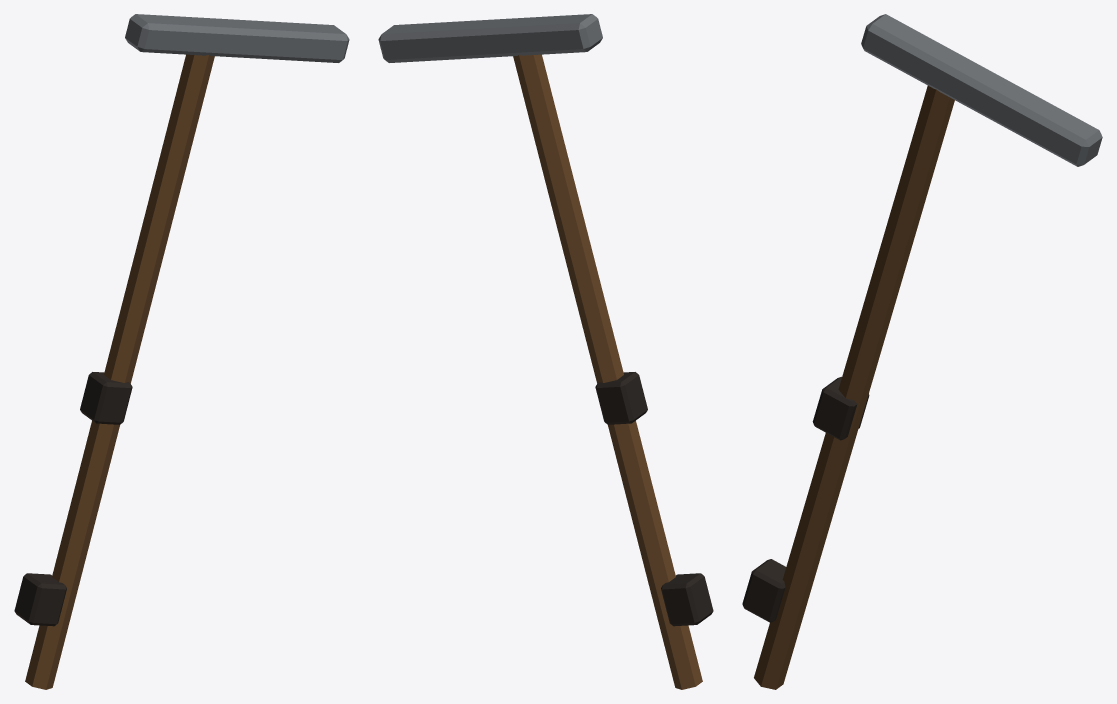
The model's file is npc_pick_back.glb.
3 views of the same model, side by side, from view 1: azimuth 30°, elevation 25°; view 2: azimuth 150°, elevation 25°; view 3: azimuth 330°, elevation 25° (orthographic). The views are drawn at different scales.
Visible parts, largest first — view 1: part.npc_pick_back; view 2: part.npc_pick_back; view 3: part.npc_pick_back.
Part boxes in pixels (x1,y1,x2,y2): part.npc_pick_back: (14, 14, 349, 689); part.npc_pick_back: (378, 14, 713, 689); part.npc_pick_back: (742, 14, 1102, 689).
Bounding box in the file's own units: 0.4177 × 0.7991 × 0.04.
